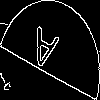A: (25, 25, 60, 81)
